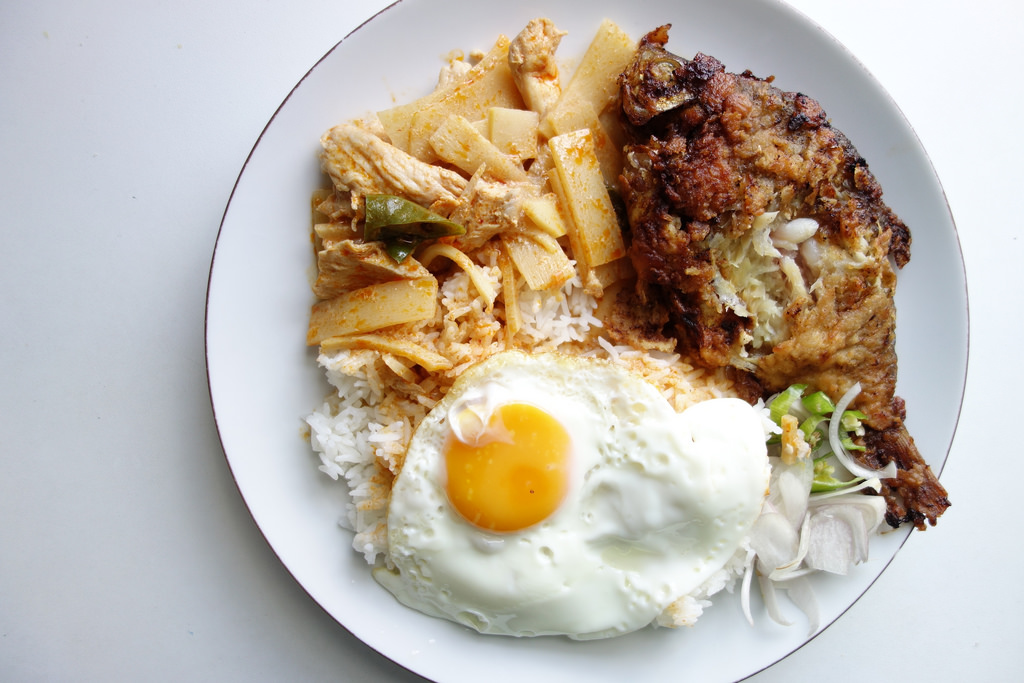fried egg: (414, 375, 764, 626)
plain rice: (330, 362, 394, 454)
